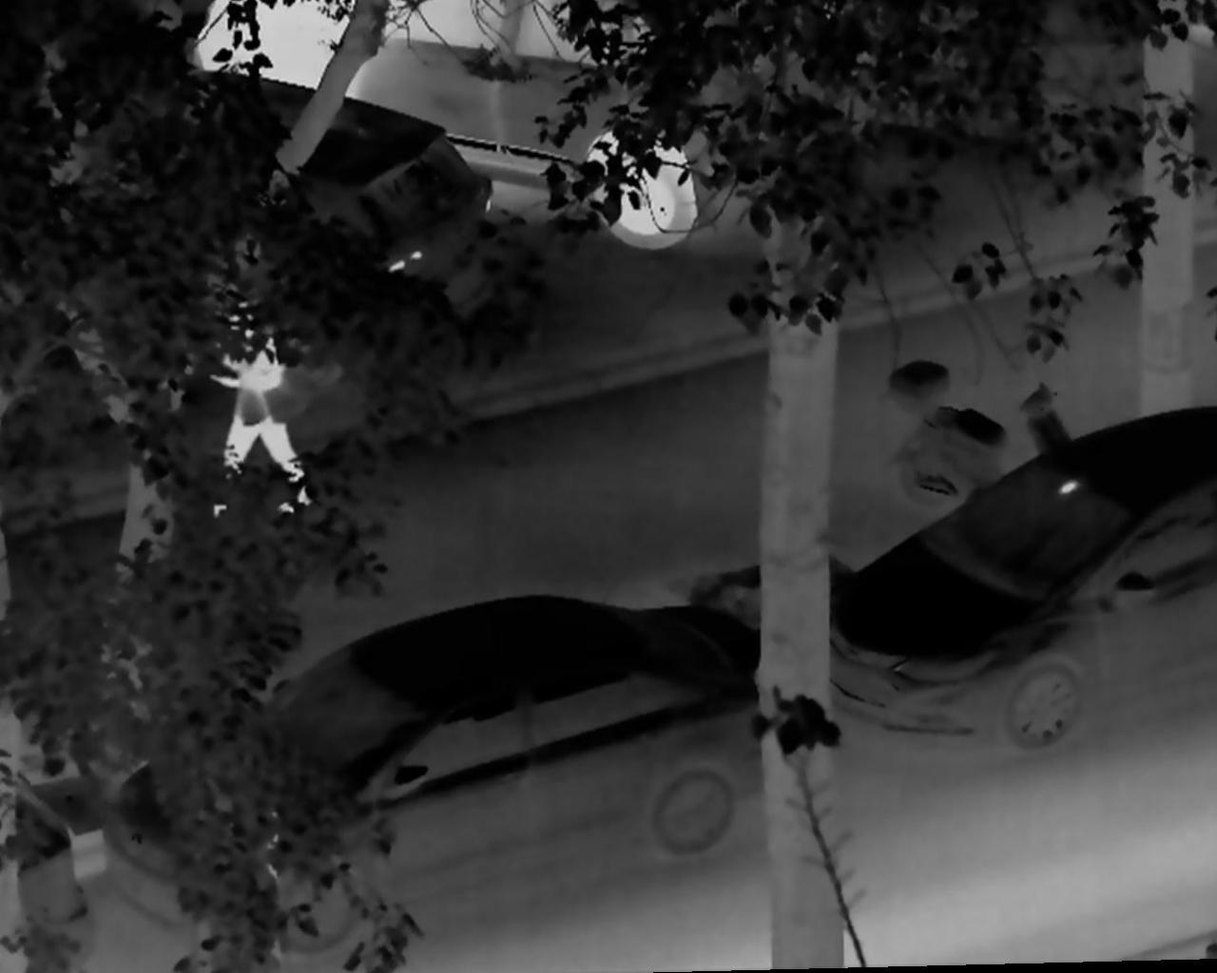person: (201, 298, 312, 521)
